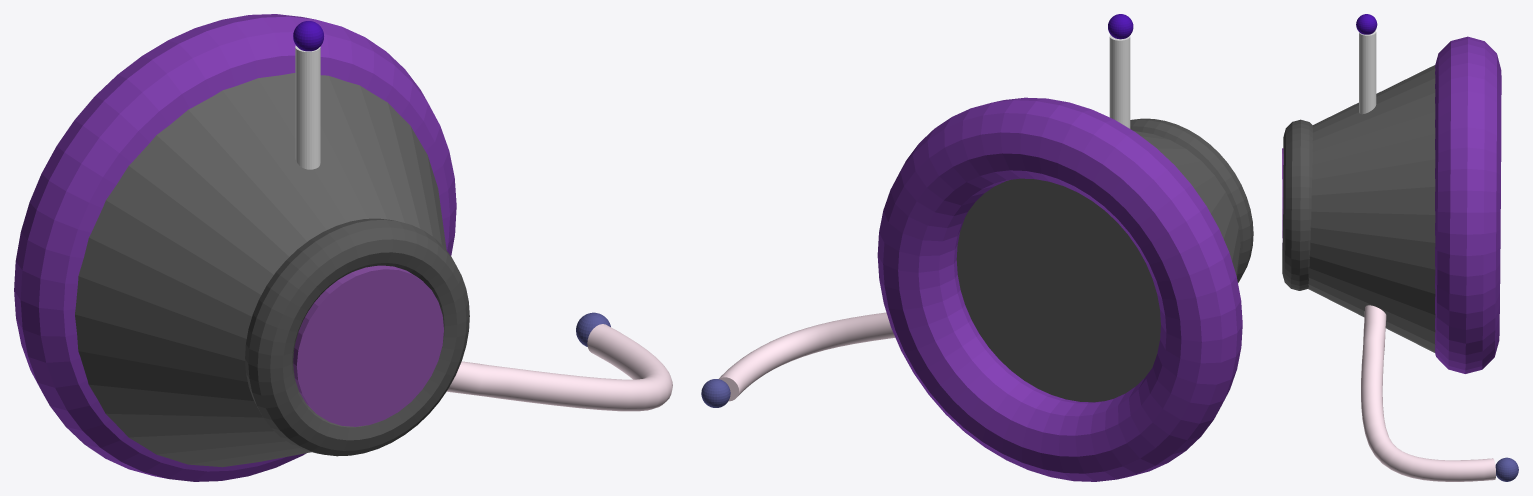
File: headsetsolo.glb
3 views of the same model, side by side, from view 1: azimuth 30°, elevation 25°; view 2: azimuth 150°, elevation 25°; view 3: azimuth 270°, elevation 25° (orthographic). The views are drawn at different scales.
Parts seen in each view (by area): view 1: Cone.001, Torus.003, Torus.002, Cylinder.005, BezierCurve.002, Cylinder.004, Sphere.003; view 2: Torus.003, Cone.001, BezierCurve.002, Torus.002, Cylinder.004, Sphere.002; view 3: Cone.001, Torus.003, BezierCurve.002, Torus.002, Cylinder.004, Sphere.002, Sphere.003.
Part boxes in pixels (x1=…): Cone.001: x1=75, y1=73, x2=446, y2=467; Torus.003: x1=14, y1=14, x2=456, y2=481; Torus.002: x1=245, y1=218, x2=469, y2=456; Cylinder.005: x1=293, y1=265, x2=443, y2=426; BezierCurve.002: x1=447, y1=324, x2=672, y2=411; Cylinder.004: x1=295, y1=45, x2=320, y2=169; Sphere.003: x1=293, y1=21, x2=323, y2=51; Torus.003: x1=877, y1=97, x2=1242, y2=481; Cone.001: x1=956, y1=131, x2=1240, y2=402; BezierCurve.002: x1=719, y1=312, x2=895, y2=401; Torus.002: x1=1130, y1=118, x2=1253, y2=282; Cylinder.004: x1=1109, y1=35, x2=1130, y2=128; Sphere.002: x1=701, y1=379, x2=730, y2=407; Cone.001: x1=1308, y1=65, x2=1435, y2=352; Torus.003: x1=1435, y1=36, x2=1501, y2=373; BezierCurve.002: x1=1361, y1=305, x2=1495, y2=481; Torus.002: x1=1282, y1=119, x2=1312, y2=290; Cylinder.004: x1=1359, y1=31, x2=1376, y2=114; Sphere.002: x1=1495, y1=457, x2=1518, y2=481; Sphere.003: x1=1356, y1=14, x2=1377, y2=34.
Bounding box in the file's own units: 2.45 × 1.91 × 1.19.
